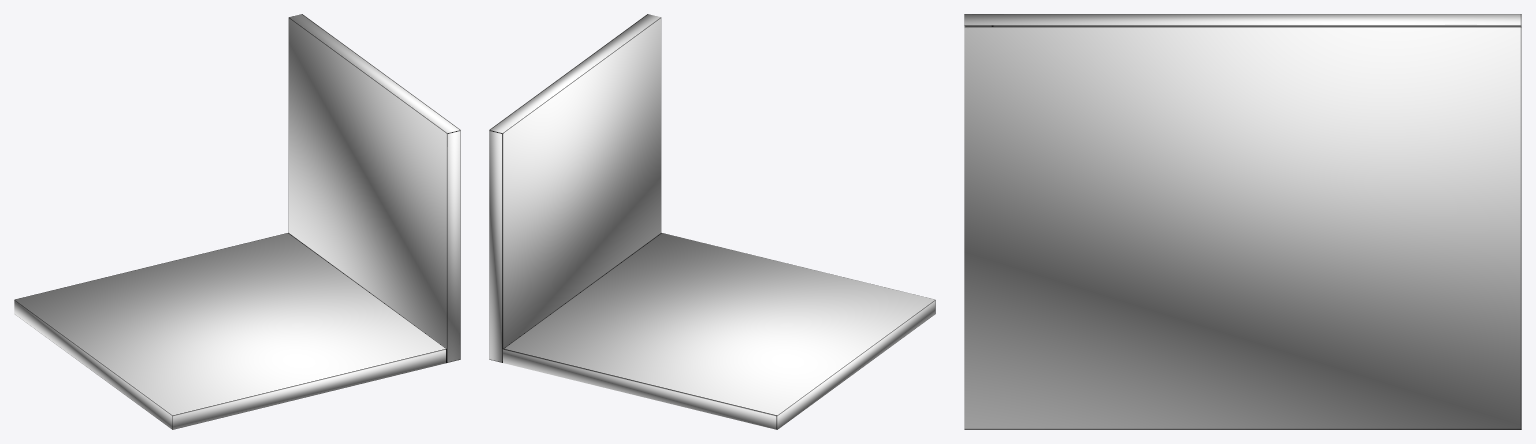
The model's file is TileWall.obj.
The picture shows the model from 3 angles, left to right: view 1: azimuth 30°, elevation 25°; view 2: azimuth 150°, elevation 25°; view 3: azimuth 270°, elevation 25°; orthographic projection. The views are drawn at different scales.
Visible parts, largest first — view 1: Tile, TileWall; view 2: Tile, TileWall; view 3: TileWall.
Part boxes in pixels (x1,y1,x2,y2): Tile: (14, 233, 446, 429); TileWall: (288, 14, 460, 362); Tile: (503, 233, 935, 429); TileWall: (489, 14, 661, 362); TileWall: (964, 14, 1521, 429).
Size of the model in its own units: 8.4 by 6.4 by 8.
